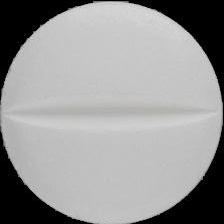0054-0077: (0, 0, 224, 224)
